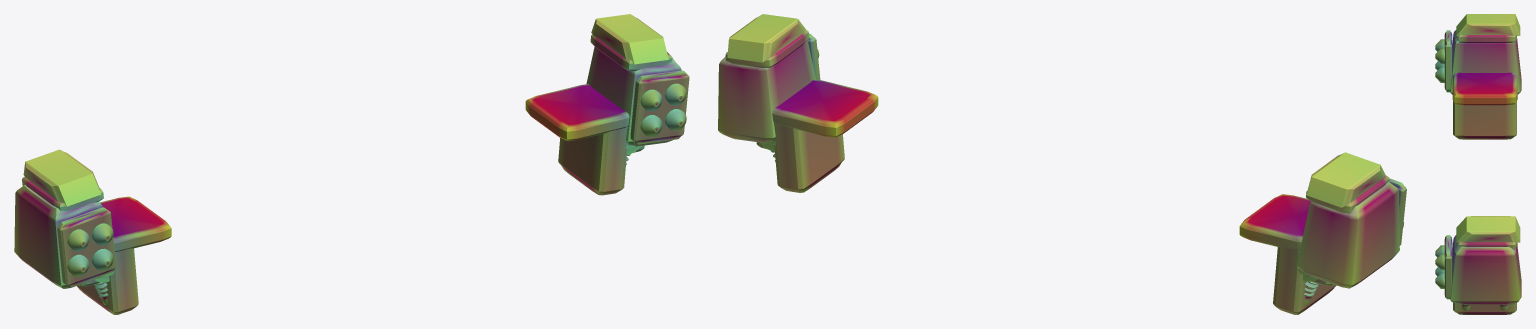
Rendered from llm_gen_shoulder_pods_042_a4bb57.glb.
The picture shows the model from 3 angles, left to right: view 1: azimuth 30°, elevation 25°; view 2: azimuth 150°, elevation 25°; view 3: azimuth 270°, elevation 25°; orthographic projection. The views are drawn at different scales.
Parts seen in each view (by area): view 1: adapter_shoulder_yoke_r, adapter_shoulder_yoke_l, missile_box_hull_1_cobalt_anodized_l, missile_top_cowl_3_wing_white_l, missile_box_hull_1_cobalt_anodized_r, missile_top_cowl_3_wing_white_r, adapter_sub_missile_bezel_dark_4_adapter_dark_r, adapter_sub_missile_bezel_dark_4_adapter_dark_l, adapter_sub_missile_hood_dark_2_adapter_dark_r, adapter_sub_missile_hood_dark_2_adapter_dark_l; view 2: adapter_shoulder_yoke_r, missile_box_hull_1_cobalt_anodized_l, missile_box_hull_1_cobalt_anodized_r, adapter_shoulder_yoke_l, missile_top_cowl_3_wing_white_l, missile_top_cowl_3_wing_white_r, adapter_sub_missile_hood_dark_2_adapter_dark_r, adapter_sub_missile_hood_dark_2_adapter_dark_l; view 3: adapter_shoulder_yoke_l, missile_box_hull_1_cobalt_anodized_r, missile_box_hull_1_cobalt_anodized_l, missile_top_cowl_3_wing_white_r, missile_top_cowl_3_wing_white_l, adapter_shoulder_yoke_r, adapter_sub_missile_bezel_dark_4_adapter_dark_r, adapter_sub_missile_bezel_dark_4_adapter_dark_l, adapter_sub_missile_hood_dark_2_adapter_dark_l, adapter_sub_missile_hood_dark_2_adapter_dark_r, missile_cell_bl_7_psycho_emerald_l, missile_cell_br_8_psycho_emerald_r (+4 smaller).
Part boxes in pixels (x1,y1,x2,y2): adapter_shoulder_yoke_r: (525, 84, 644, 195); adapter_shoulder_yoke_l: (77, 196, 171, 314); missile_box_hull_1_cobalt_anodized_l: (14, 185, 102, 288); missile_top_cowl_3_wing_white_l: (23, 149, 101, 206); missile_box_hull_1_cobalt_anodized_r: (586, 47, 681, 146); missile_top_cowl_3_wing_white_r: (591, 14, 668, 64); adapter_sub_missile_bezel_dark_4_adapter_dark_r: (630, 70, 689, 144); adapter_sub_missile_bezel_dark_4_adapter_dark_l: (57, 207, 116, 287); adapter_sub_missile_hood_dark_2_adapter_dark_r: (590, 34, 672, 71); adapter_sub_missile_hood_dark_2_adapter_dark_l: (22, 177, 103, 211); adapter_shoulder_yoke_r: (756, 79, 878, 192); missile_box_hull_1_cobalt_anodized_l: (1296, 182, 1399, 288); missile_box_hull_1_cobalt_anodized_r: (718, 40, 815, 143); adapter_shoulder_yoke_l: (1239, 194, 1336, 314); missile_top_cowl_3_wing_white_l: (1307, 152, 1385, 207); missile_top_cowl_3_wing_white_r: (727, 14, 805, 62); adapter_sub_missile_hood_dark_2_adapter_dark_r: (725, 29, 809, 67); adapter_sub_missile_hood_dark_2_adapter_dark_l: (1306, 175, 1389, 213); adapter_shoulder_yoke_l: (1452, 72, 1517, 139); missile_box_hull_1_cobalt_anodized_r: (1449, 235, 1521, 304); missile_box_hull_1_cobalt_anodized_l: (1449, 30, 1521, 94); missile_top_cowl_3_wing_white_r: (1456, 216, 1520, 242); missile_top_cowl_3_wing_white_l: (1456, 14, 1520, 35); adapter_shoulder_yoke_r: (1452, 243, 1517, 314); adapter_sub_missile_bezel_dark_4_adapter_dark_r: (1444, 235, 1452, 299); adapter_sub_missile_bezel_dark_4_adapter_dark_l: (1444, 30, 1452, 92); adapter_sub_missile_hood_dark_2_adapter_dark_l: (1457, 34, 1516, 42); adapter_sub_missile_hood_dark_2_adapter_dark_r: (1457, 241, 1516, 249); missile_cell_bl_7_psycho_emerald_l: (1435, 66, 1444, 82); missile_cell_br_8_psycho_emerald_r: (1435, 272, 1444, 288).
Size of the model in its own units: 107 by 23.09 by 17.3.
